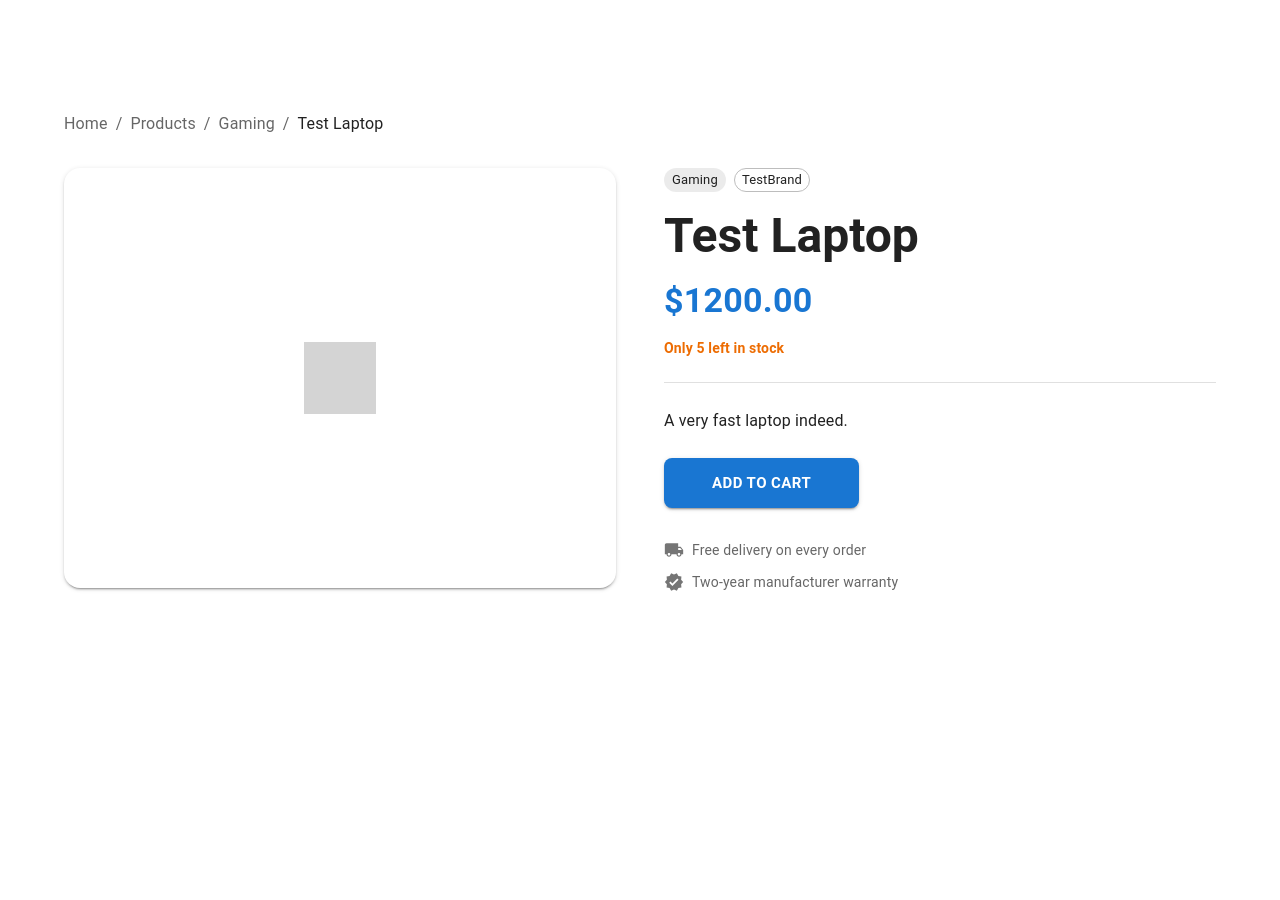
Test: ProductDetailPage › adds the product to the cart and confirms it
The image size is (1280, 900).
Click the button "Add to Cart".
click(762, 483)  # box top-left (664, 458), bottom-right (859, 508)
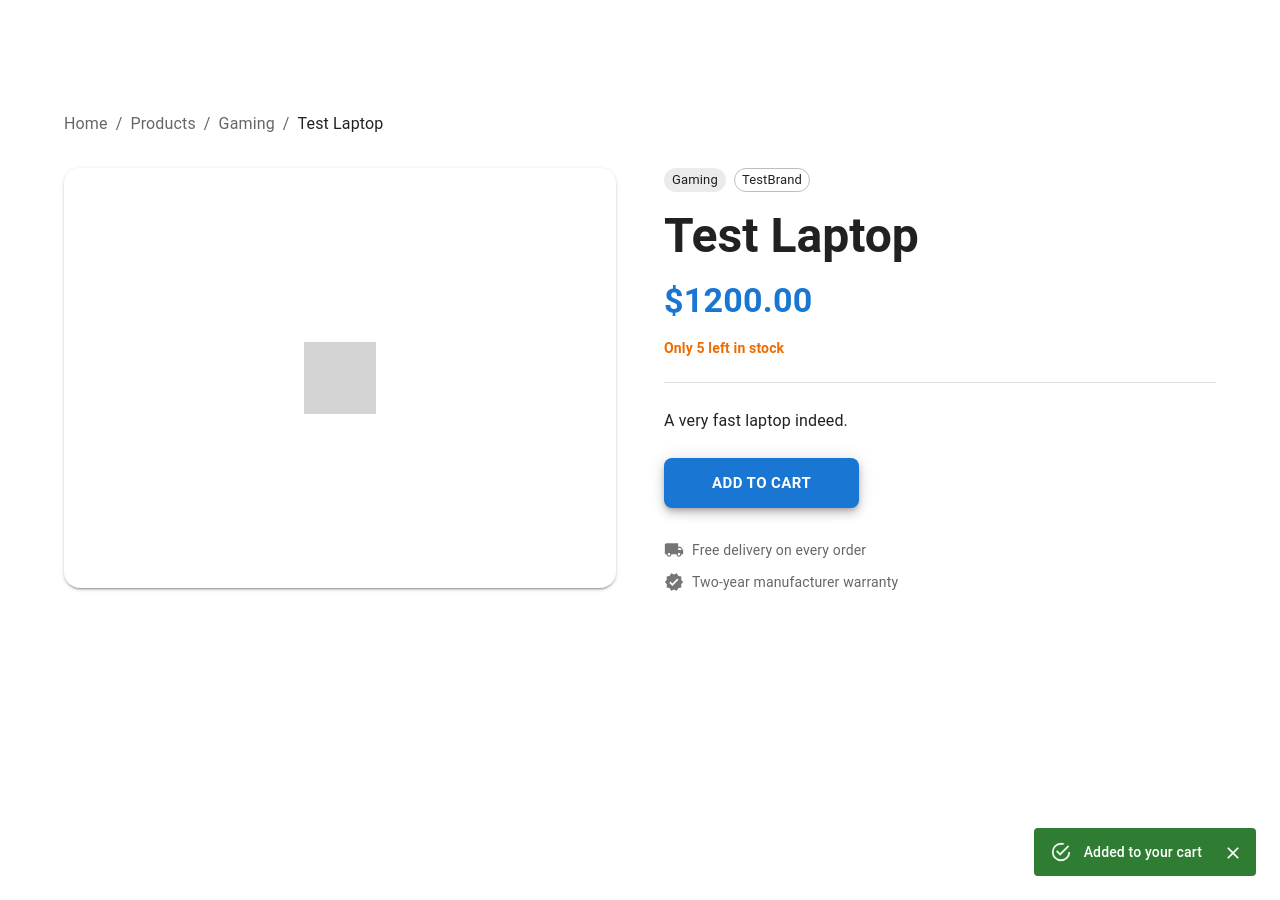
Expected: the text "Added to your cart" is shown, top-left (1084, 844), bottom-right (1202, 860)
